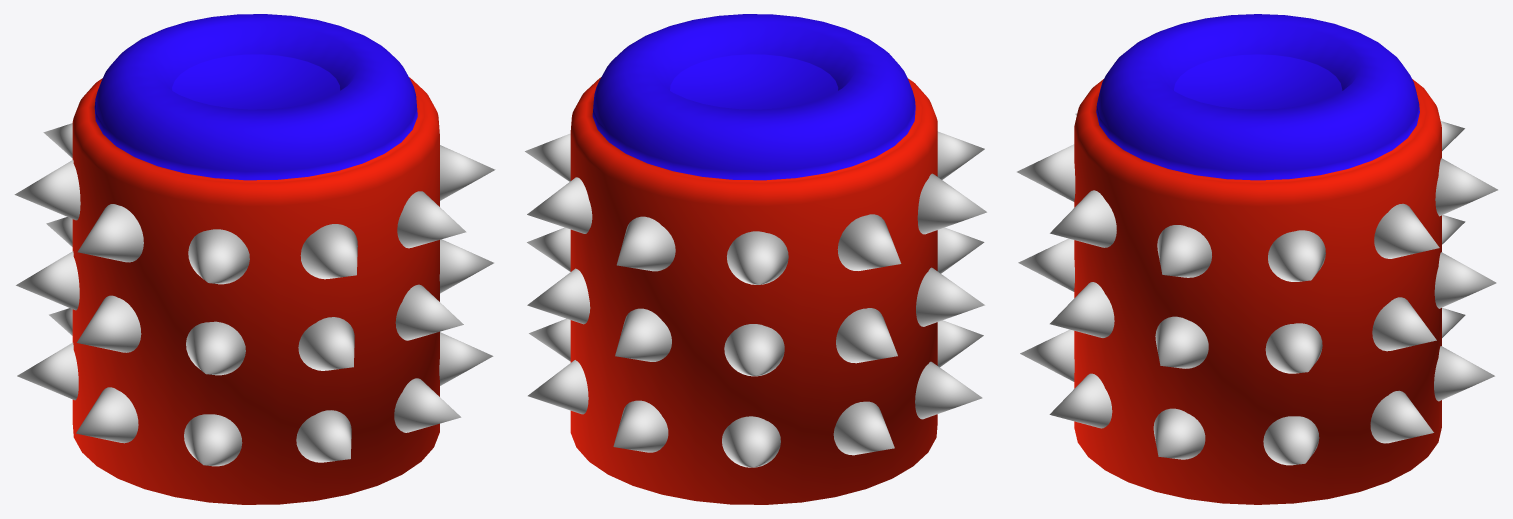
File: Obstacle2.fbx
The picture shows the model from 3 angles, left to right: view 1: azimuth 30°, elevation 25°; view 2: azimuth 150°, elevation 25°; view 3: azimuth 270°, elevation 25°; orthographic projection.
Parts seen in each view (by area): view 1: Cylinder.023, Cone.001; view 2: Cylinder.023, Cone.001; view 3: Cylinder.023, Cone.001.
Part boxes in pixels (x1,y1,x2,y2): Cylinder.023: (72,14,439,504); Cone.001: (14,123,495,466); Cylinder.023: (570,14,937,504); Cone.001: (525,131,986,467); Cylinder.023: (1074,14,1441,504); Cone.001: (1017,113,1497,465).
Bounding box in the file's own units: 292 × 246 × 298.
